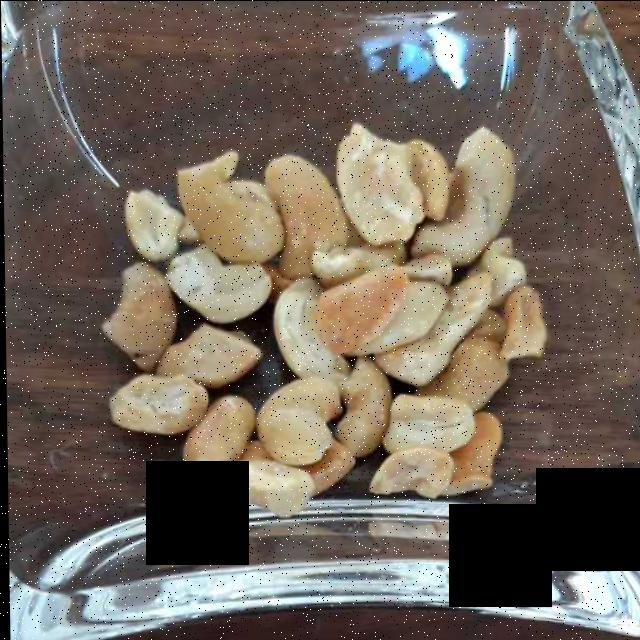cashew-nut: (110, 128, 534, 509)
